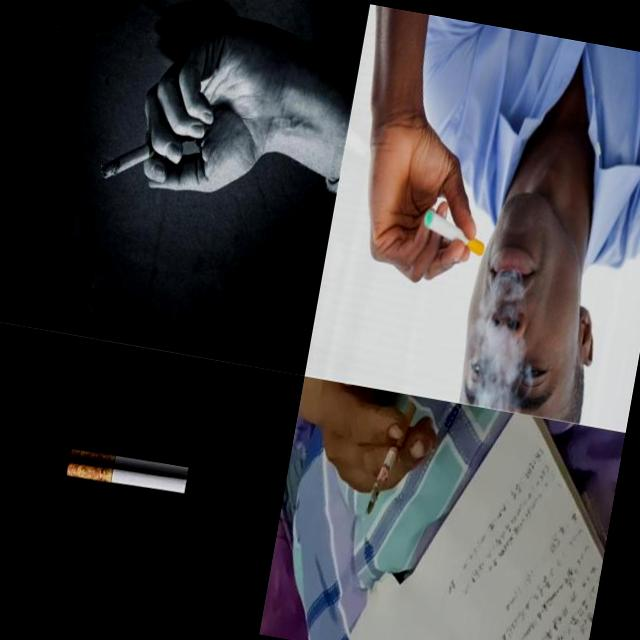smoke: (365, 396, 418, 518), (62, 457, 188, 497), (98, 123, 172, 188), (68, 445, 190, 480), (418, 207, 489, 257)
